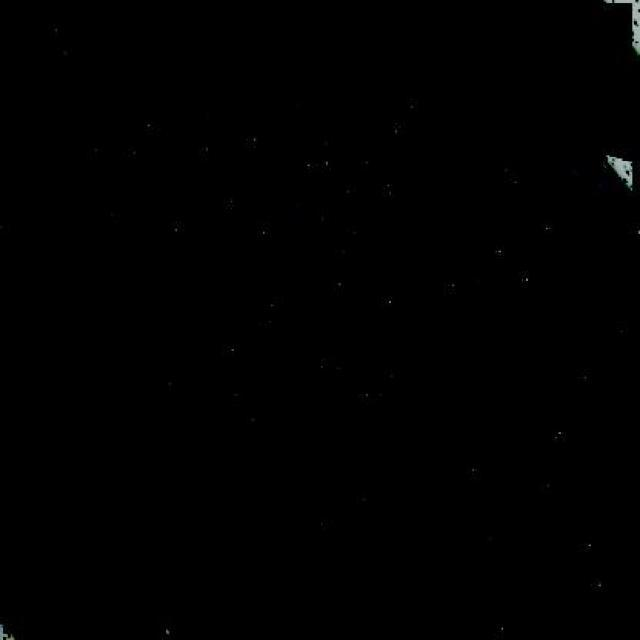Manhole: (3, 2, 632, 635)
